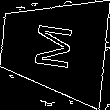M_W: (30, 21, 77, 73)
